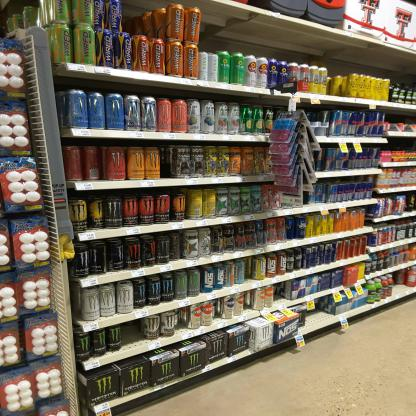Void: (124, 3, 166, 35), (160, 147, 172, 175), (122, 324, 140, 341), (306, 309, 325, 320)
